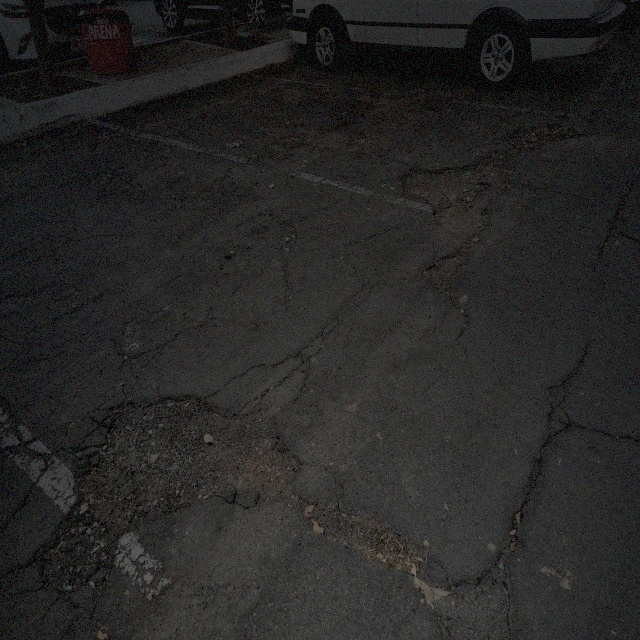pothole: (41, 367, 302, 603), (403, 143, 513, 242), (298, 502, 423, 584), (508, 118, 580, 156), (420, 246, 471, 298)
